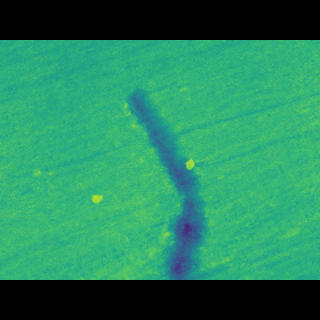Loch: (116, 105, 237, 250)
